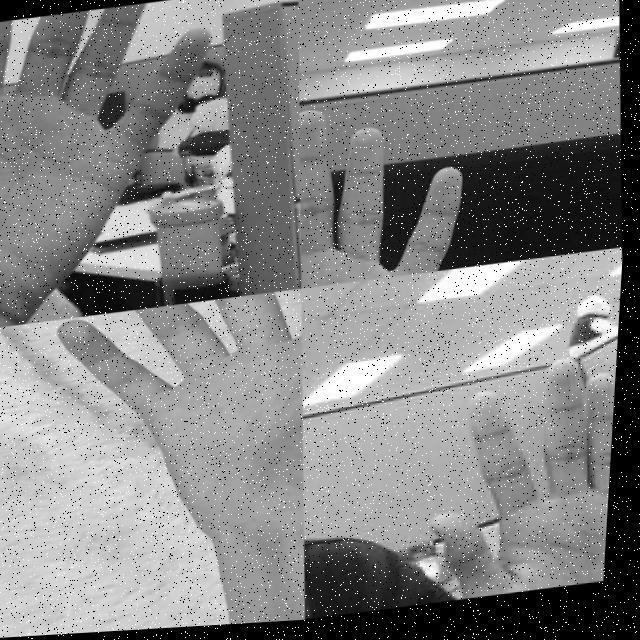no-gloves: (50, 292, 322, 562), (0, 0, 232, 304), (422, 355, 622, 609), (292, 92, 492, 293)
